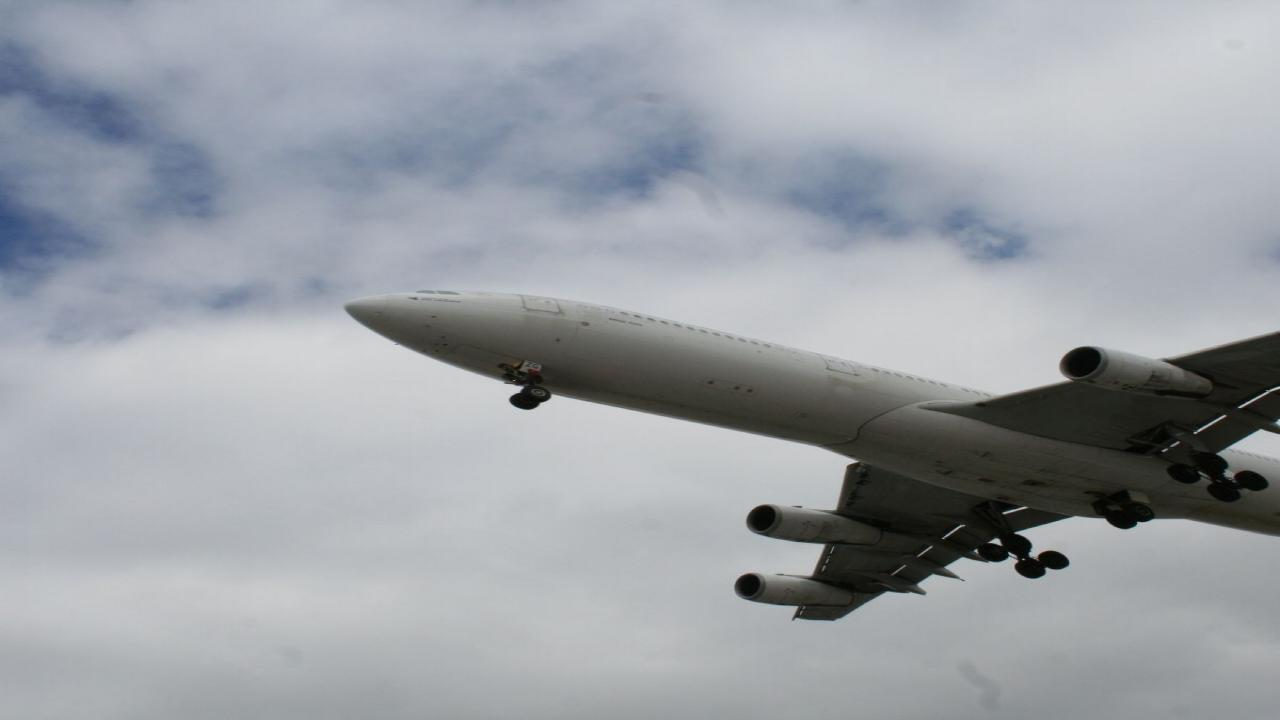Airplane: (326, 258, 1280, 633)
